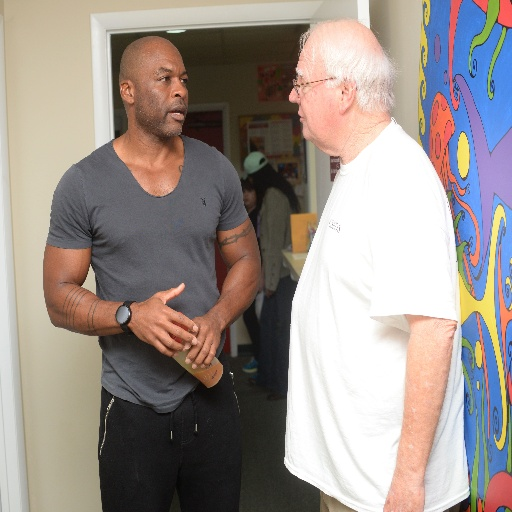hand: (122, 293, 181, 354), (182, 315, 222, 370), (381, 484, 425, 511), (264, 287, 275, 297), (258, 278, 264, 294)
